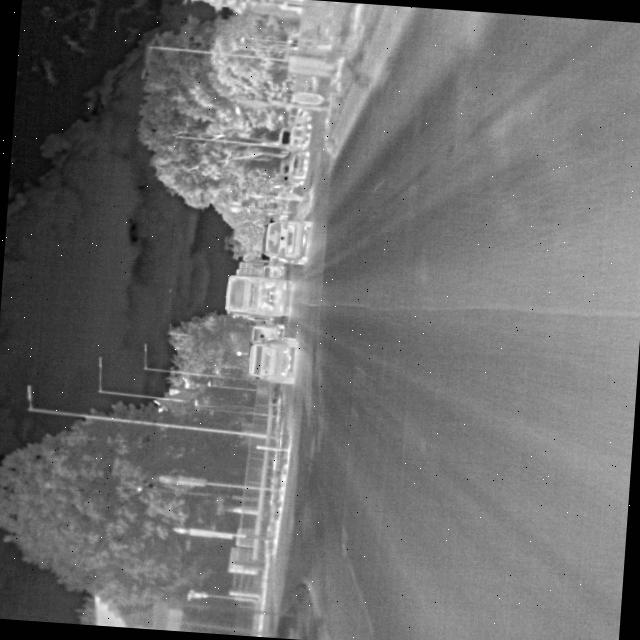Vehicle: (221, 272, 290, 318), (244, 332, 299, 385), (259, 216, 314, 266), (277, 147, 310, 185)
